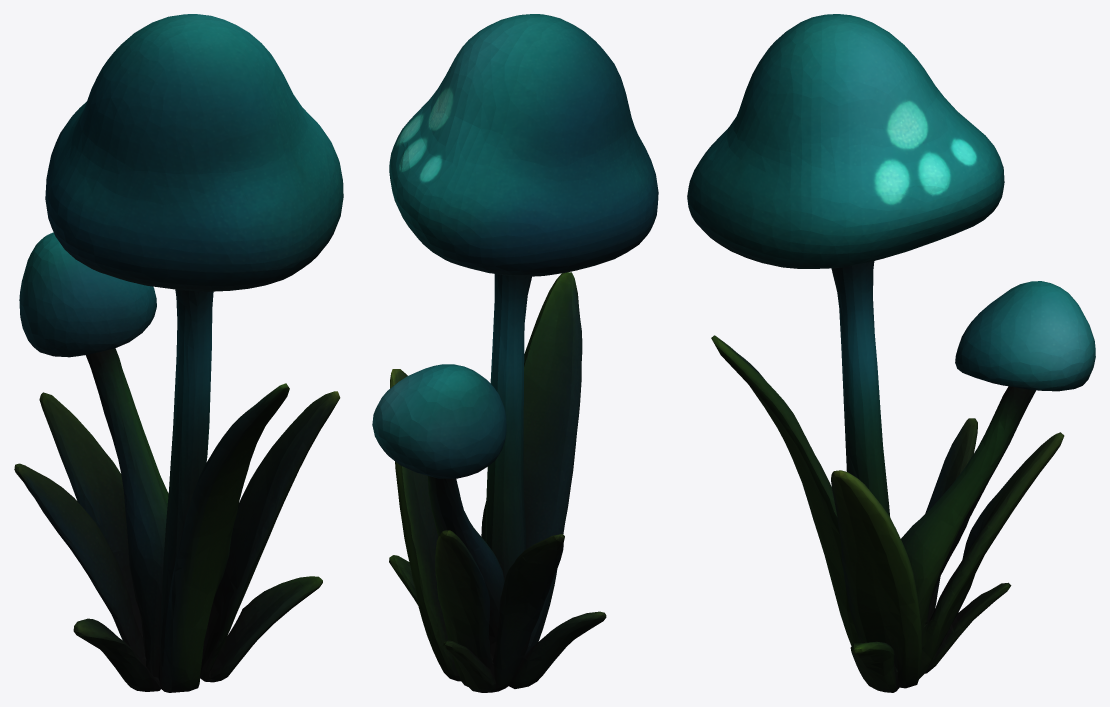
3 views of the same model, side by side, from view 1: azimuth 30°, elevation 25°; view 2: azimuth 150°, elevation 25°; view 3: azimuth 270°, elevation 25° (orthographic). The views are drawn at different scales.
Visible parts, largest first — view 1: geometry_0.010_Baked; view 2: geometry_0.010_Baked; view 3: geometry_0.010_Baked.
Part boxes in pixels (x1,y1,x2,y2): geometry_0.010_Baked: (14,14,343,692); geometry_0.010_Baked: (372,14,658,692); geometry_0.010_Baked: (687,14,1095,692).
Bounding box in the file's own units: 41.54 × 99.58 × 57.18.
